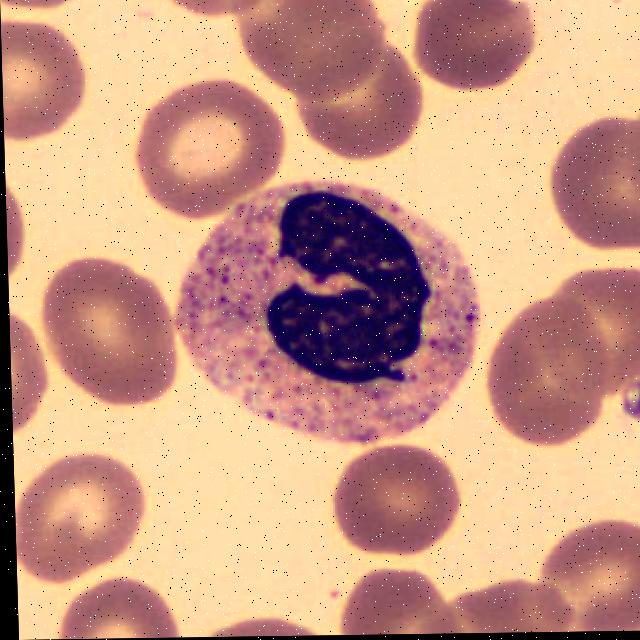neutrophil: (171, 175, 479, 449)
rbc: (135, 77, 290, 226), (40, 257, 173, 414), (14, 450, 163, 583), (488, 293, 606, 452), (325, 441, 464, 562), (292, 43, 422, 163), (538, 109, 640, 259), (239, 0, 387, 102), (543, 263, 640, 409), (402, 0, 531, 100), (526, 520, 640, 632), (1, 22, 96, 154), (434, 564, 582, 634), (330, 571, 457, 635), (55, 584, 193, 639), (9, 305, 56, 445), (5, 178, 42, 284), (165, 0, 267, 30), (196, 616, 323, 637)
